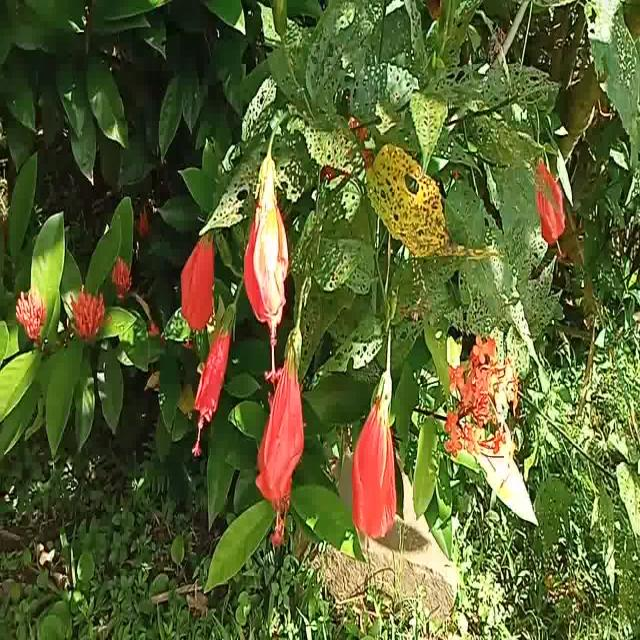Flower: (254, 337, 310, 554), (347, 370, 403, 549), (244, 159, 294, 341), (176, 229, 219, 335)
